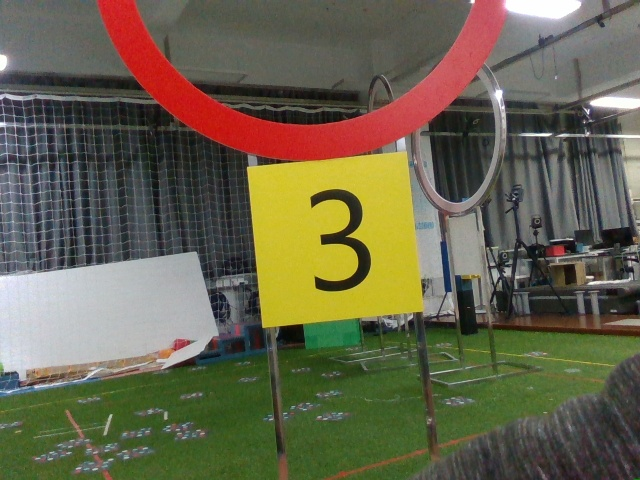target: (260, 157, 423, 310)
